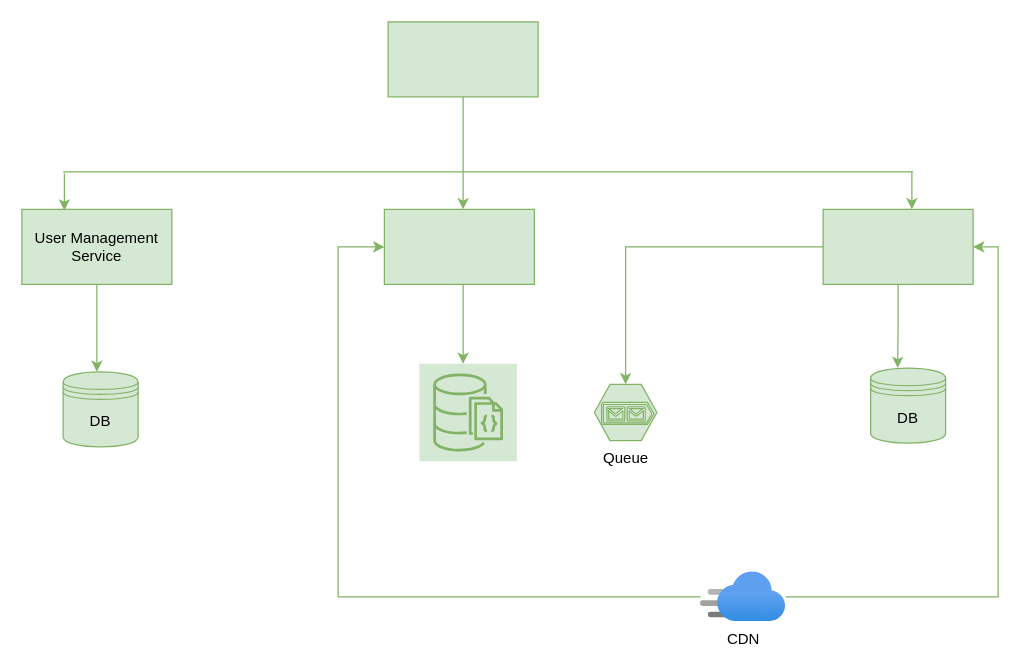
This 1030x670 diagram has some shape labels left out. The centre of each missing label's shape, as x and y in pixels:
API Gateway: pixel 462 59
Email Service: pixel 897 246
Template Service: pixel 458 246
